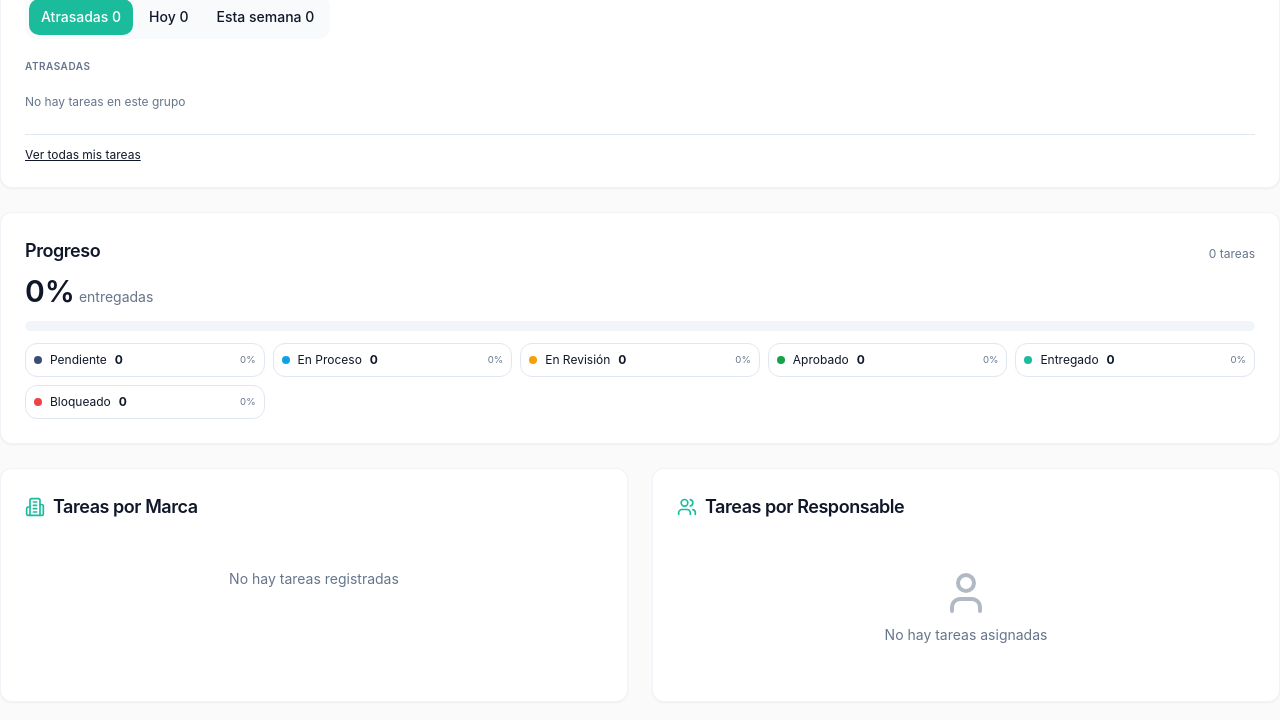
Test case: Dashboard · consultar las tareas de los indicadores › las barras de progreso abren un grupo vacío sin fallar
(page scrolled)
What coordinates should you click on to do the following:
click the button with aria-label "Ver progreso: Pendiente"
I would click on:
 (145, 360)
Its box is [25,343,265,377].
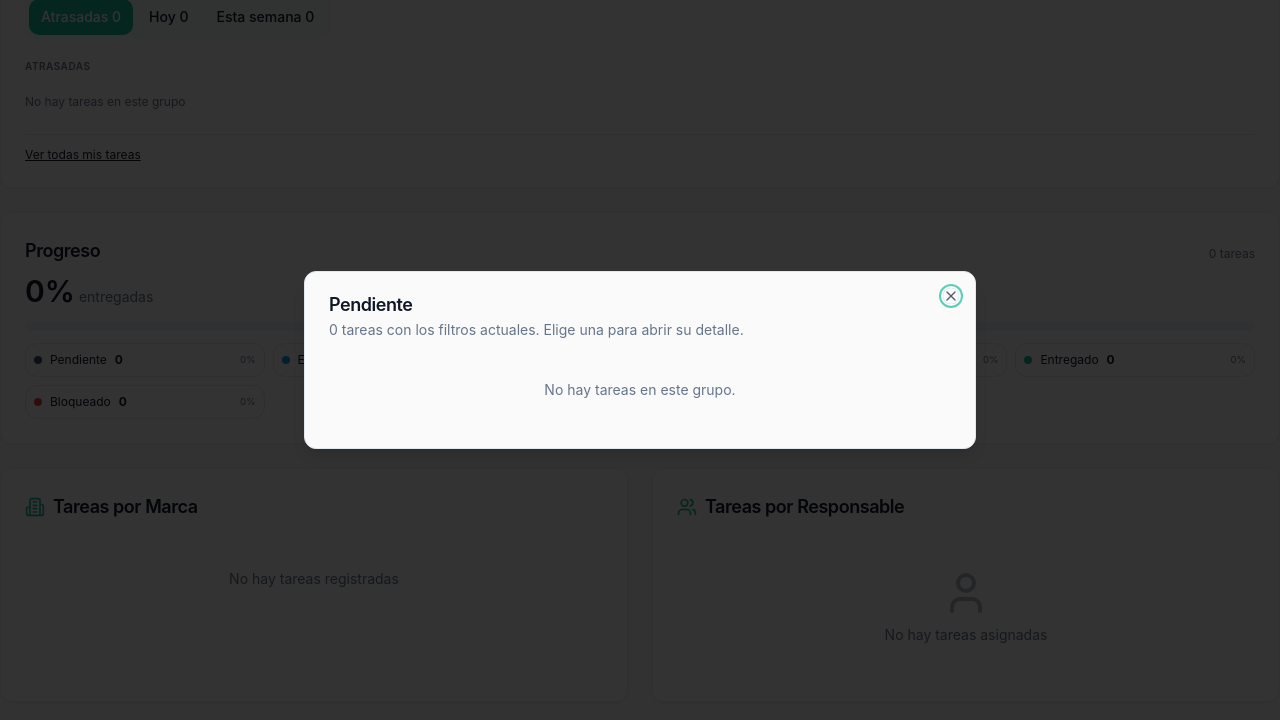
Now the dialog shows "No hay tareas en este grupo", box [544,381,736,398]
